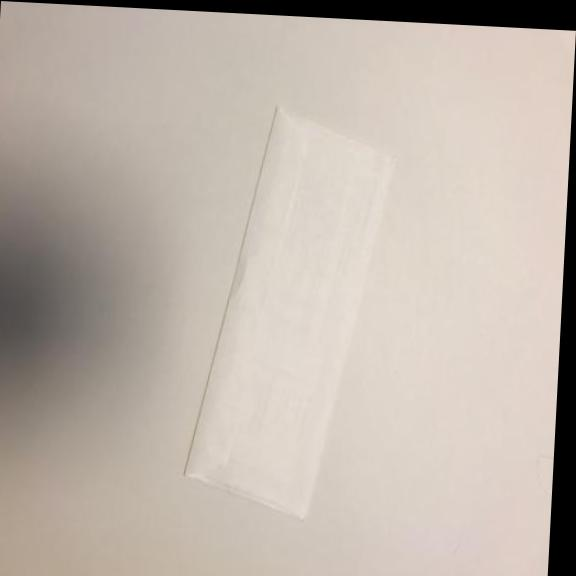Kertas: (176, 95, 411, 529)
